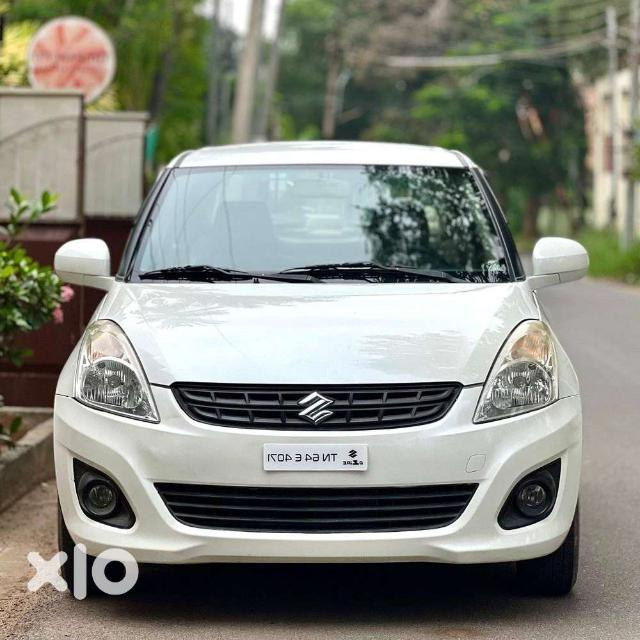vehicles: (54, 140, 594, 600)
